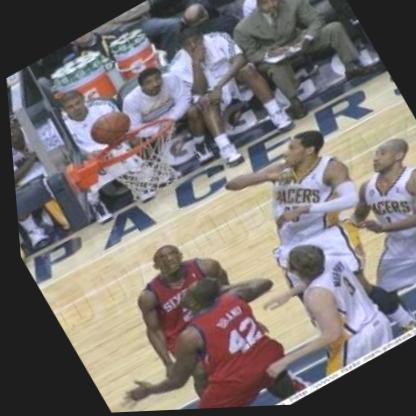basketball: (76, 99, 142, 157)
